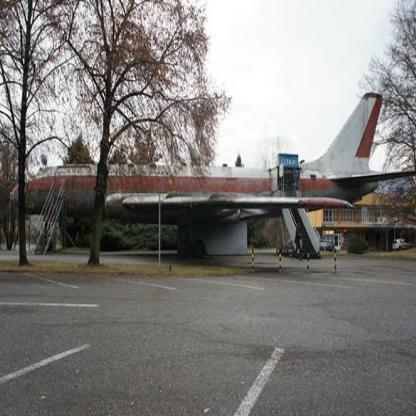CIV_Plane: (2, 90, 413, 246)
